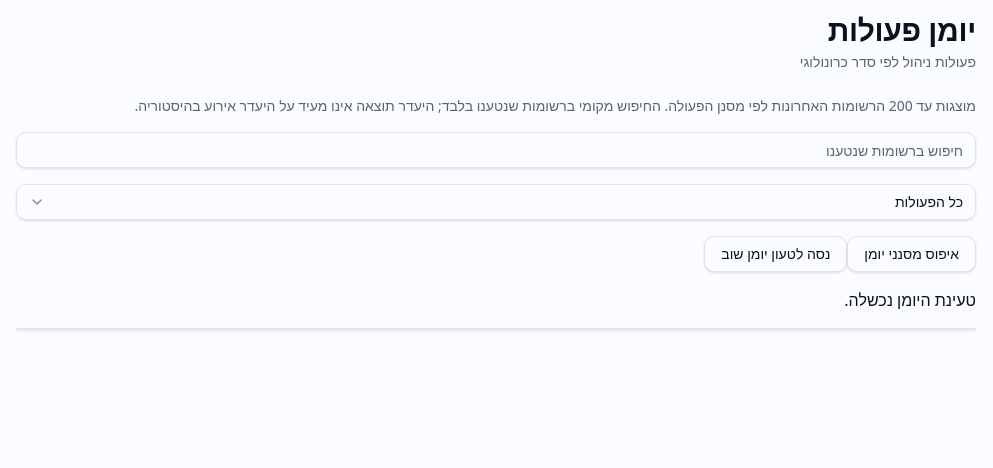
audit workflow › distinguishes initial failure from empty and retries
Expected: the message does not show "private backend", [844,289,976,311]
Expected: the text "לא הוחזרו אירועים בקריאה זו." is not shown
Click the button "נסה לטעון יומן שוב" at {"x": 776, "y": 254}, box [704,236,847,272]
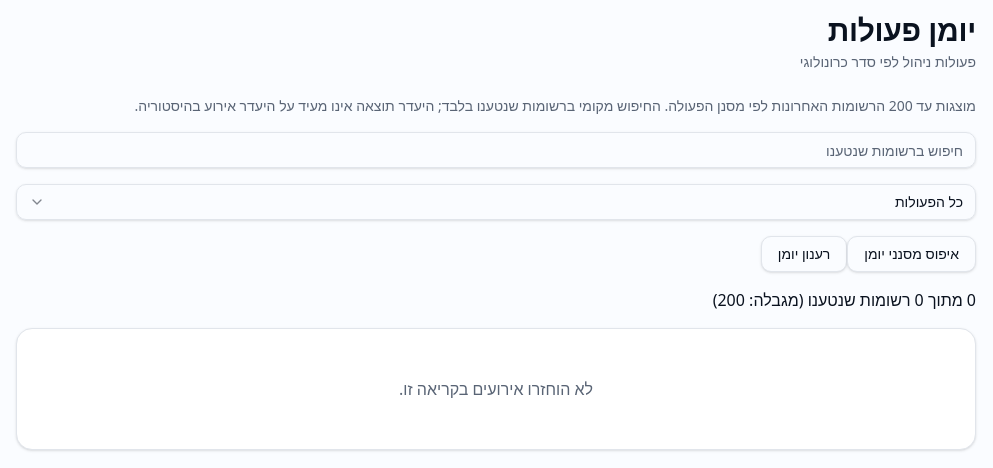
Expected: the text "לא הוחזרו אירועים בקריאה זו." is shown, [399,378,593,400]
